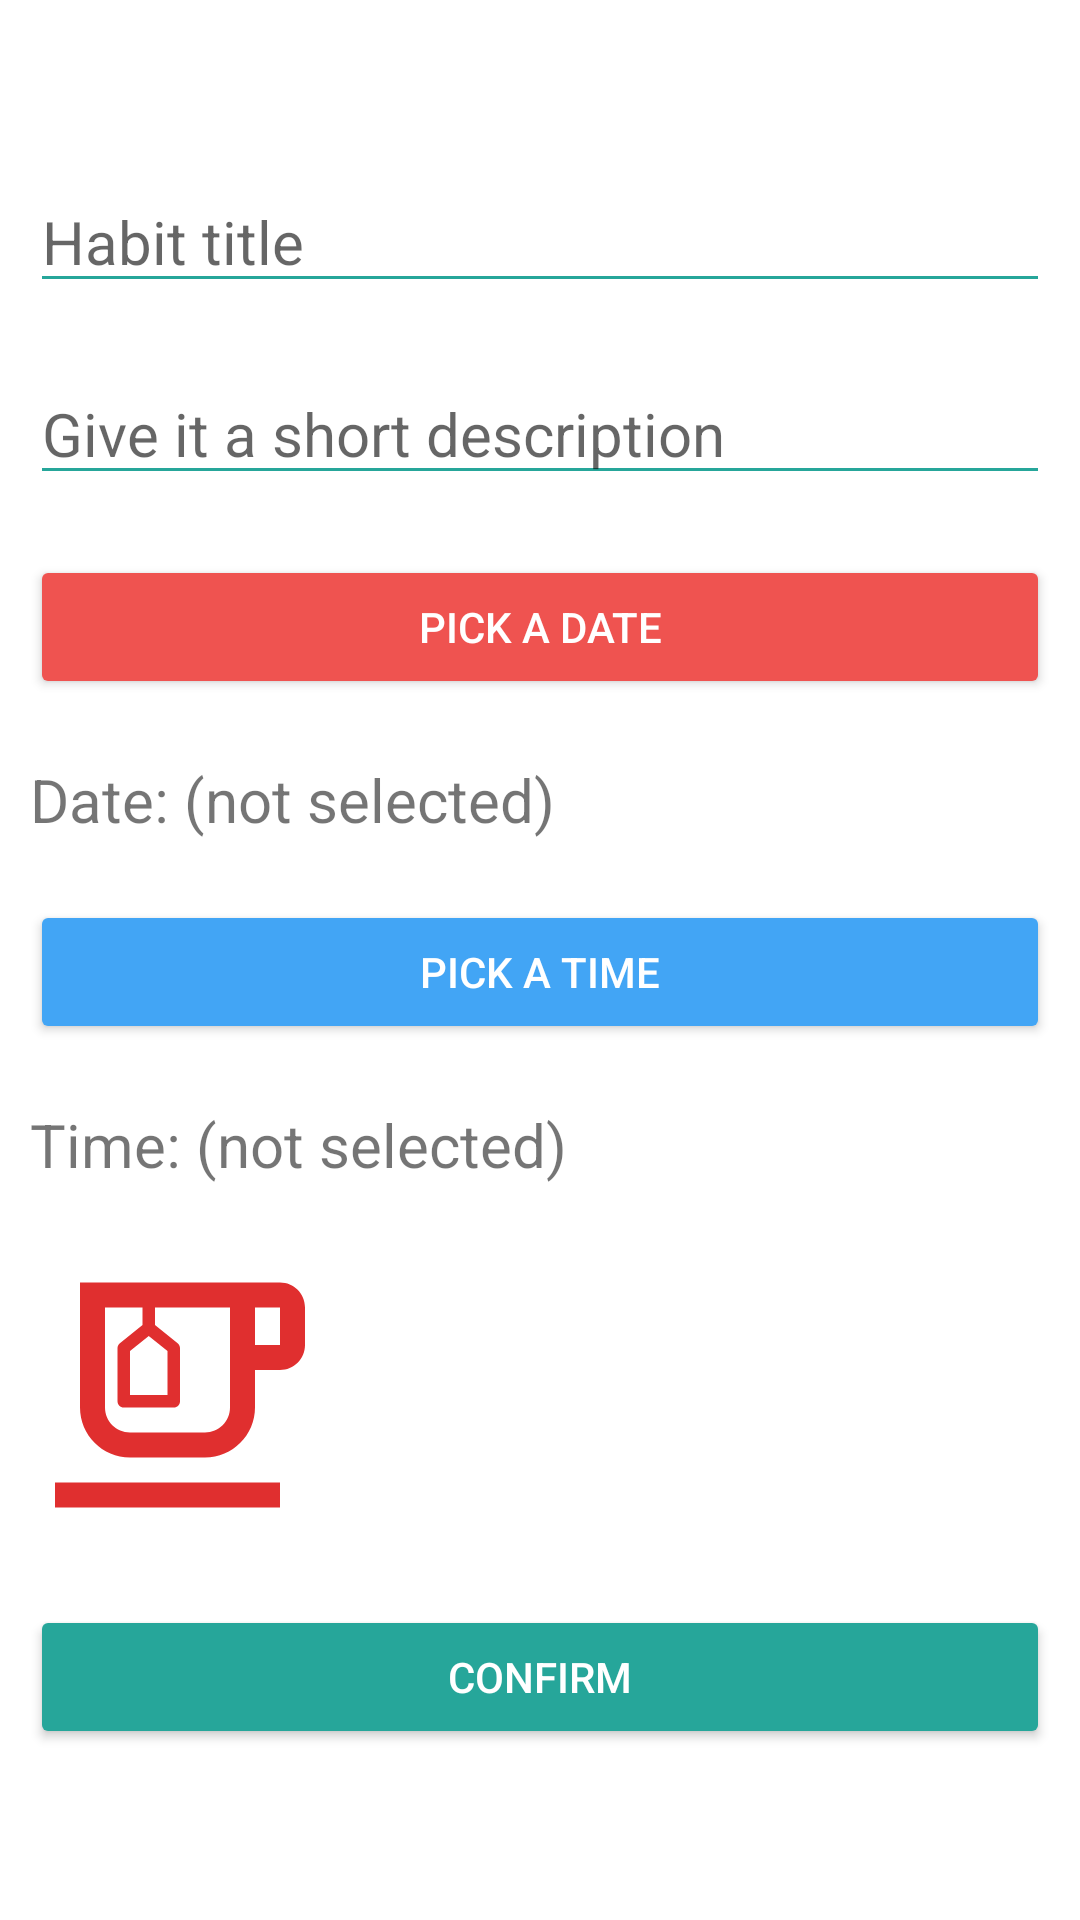

Icons on this 1080px x 1920px Android screen, each with the point to tap as (x,y):
coffe: (180,1395)
